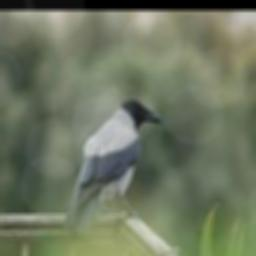Crow: (62, 97, 162, 231)
